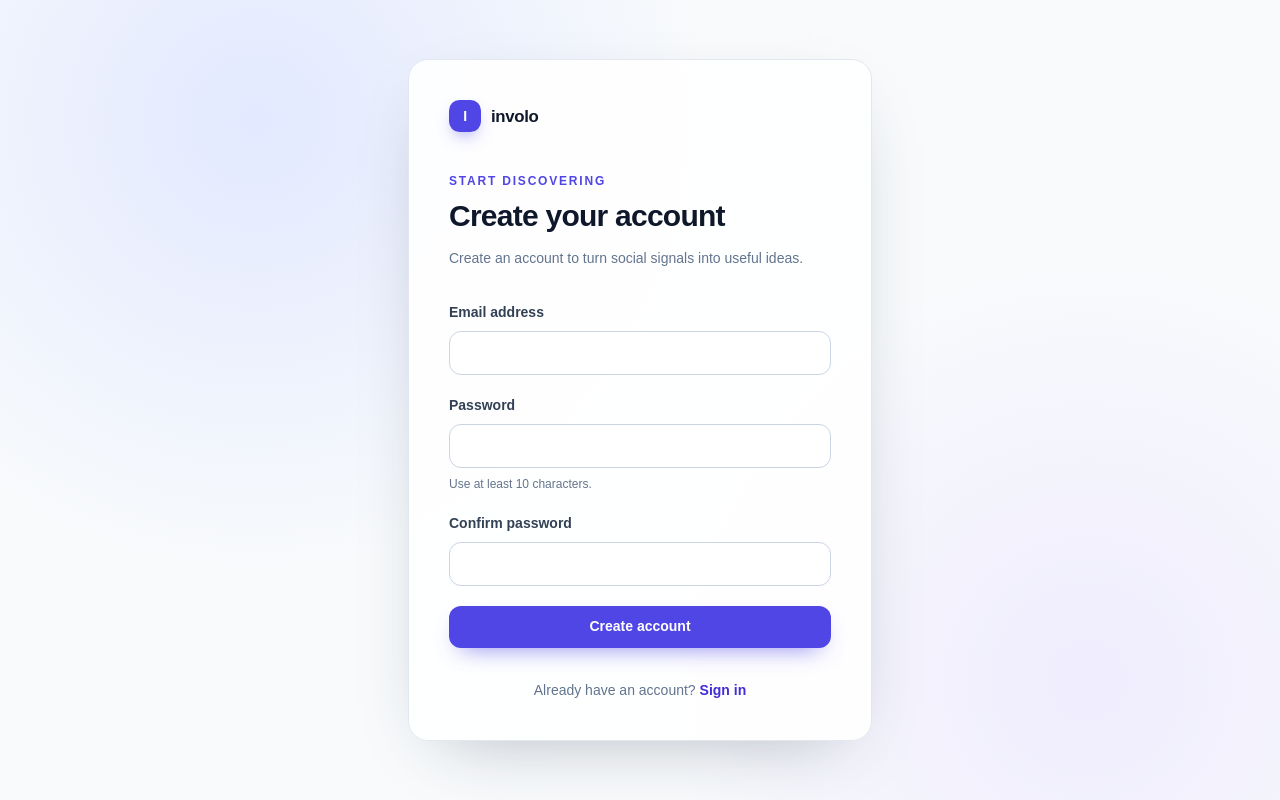
Test case: AuthForm › shows accessible validation errors
The image size is (1280, 800).
Type "invalid" into the field labelled "Email address" at (640, 353), box 449,331 -> 831,375
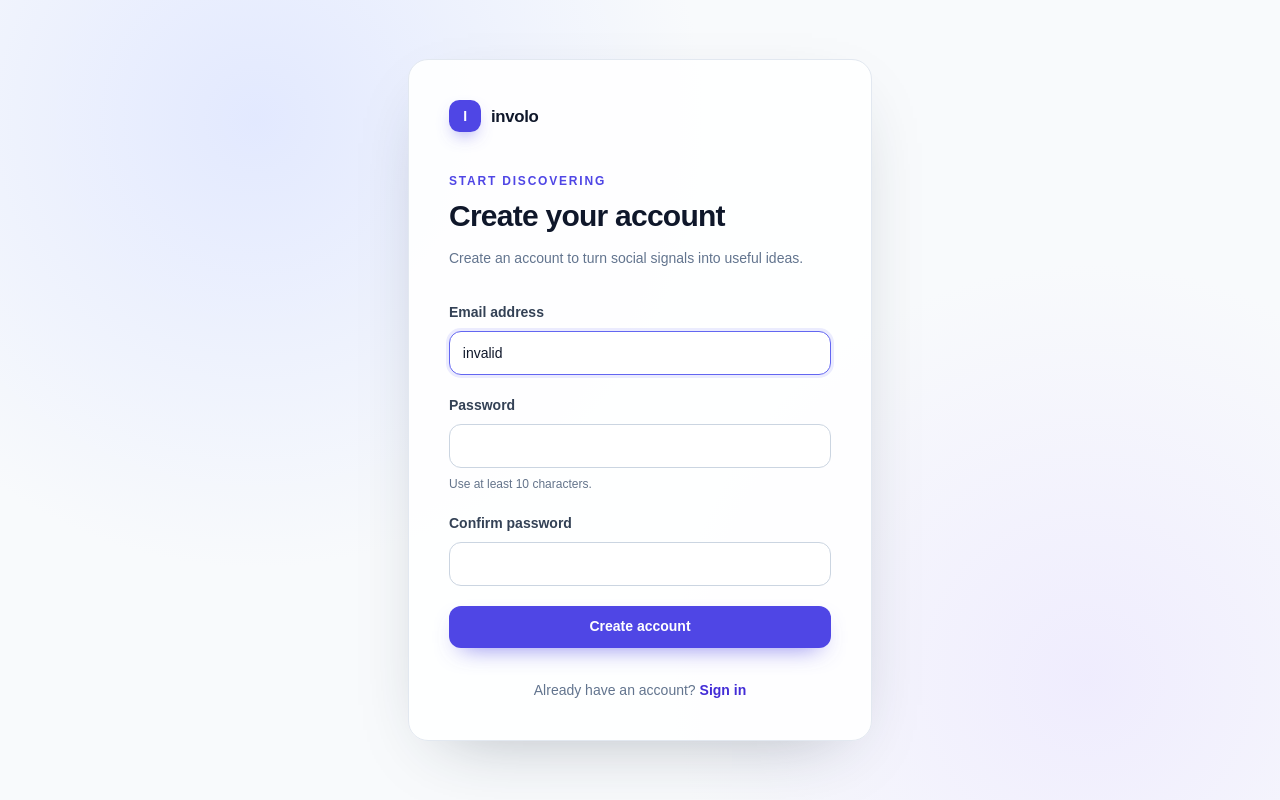
Type "short" into the password field labelled "Password" at (640, 446), box 449,424 -> 831,468
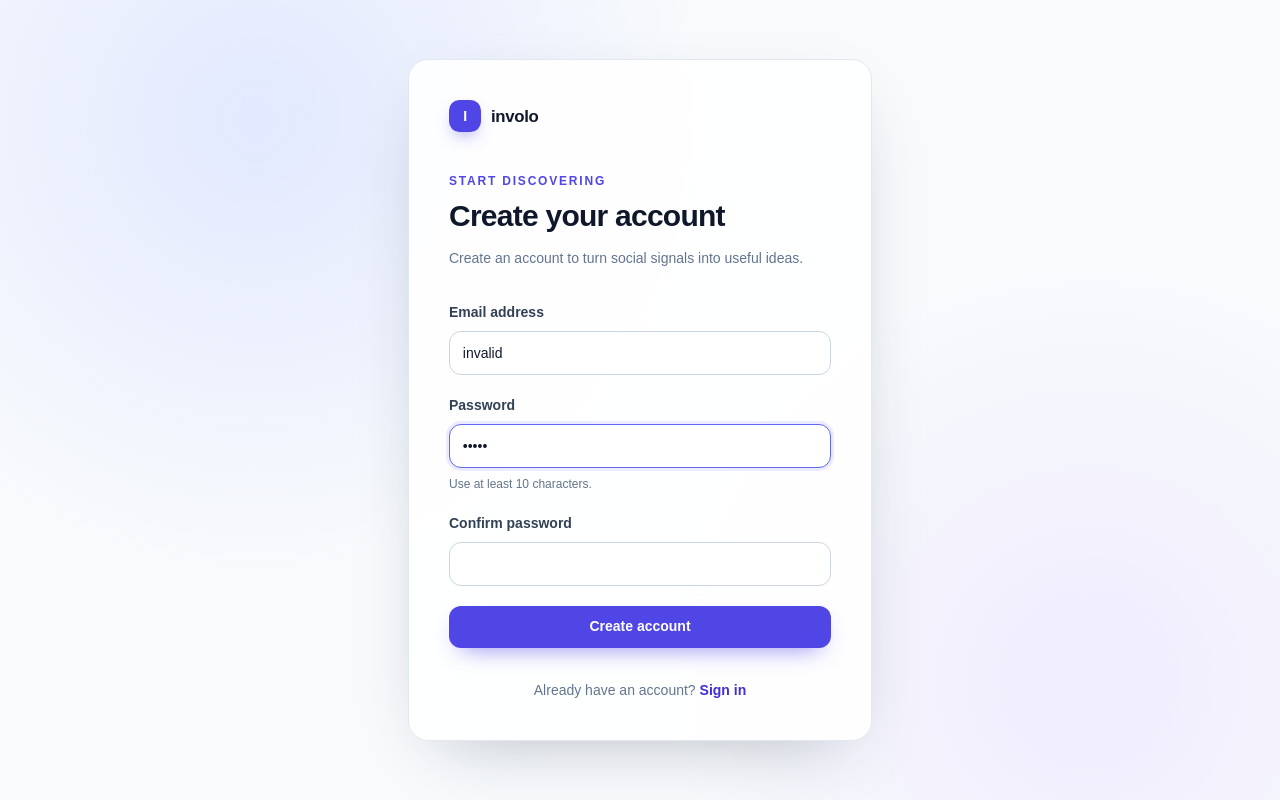
Type "other" into the password field labelled "Confirm password" at (640, 564), box 449,542 -> 831,586
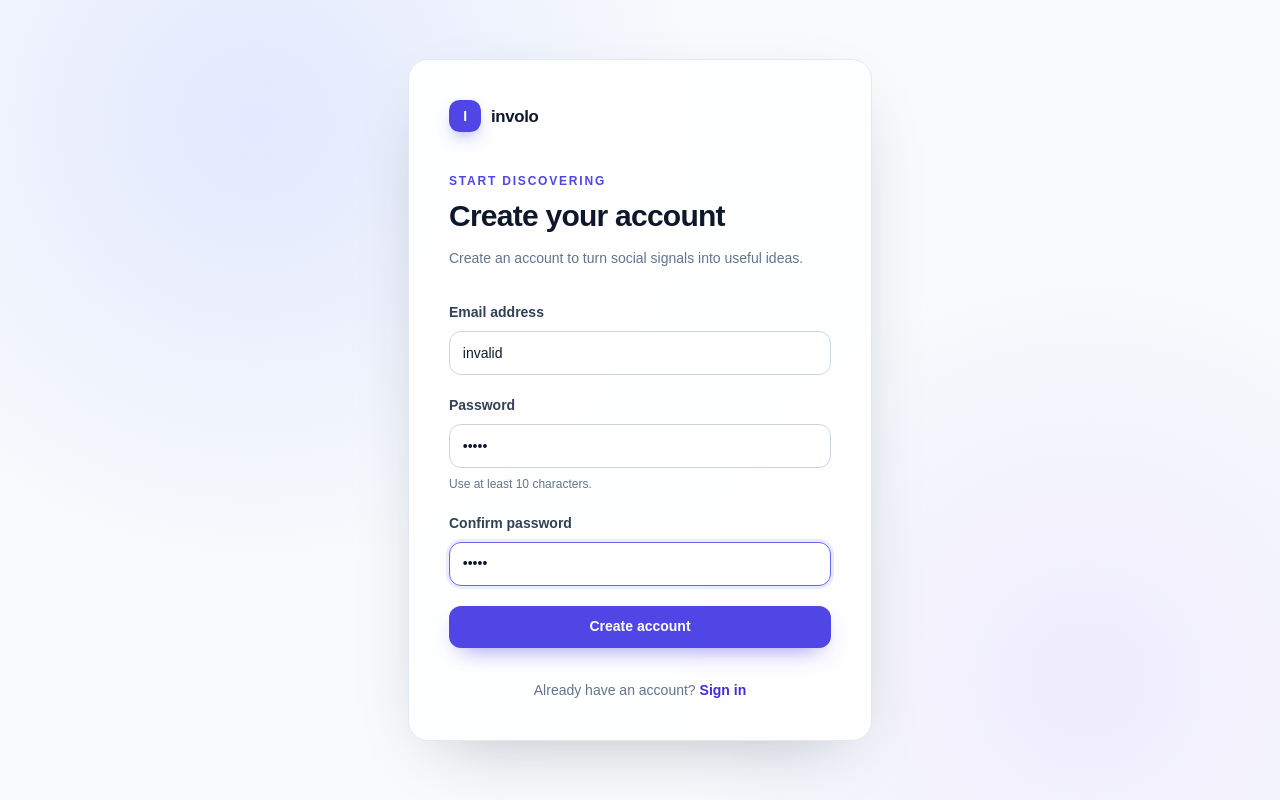
Click the button "Create account" at (640, 627), box 449,606 -> 831,648
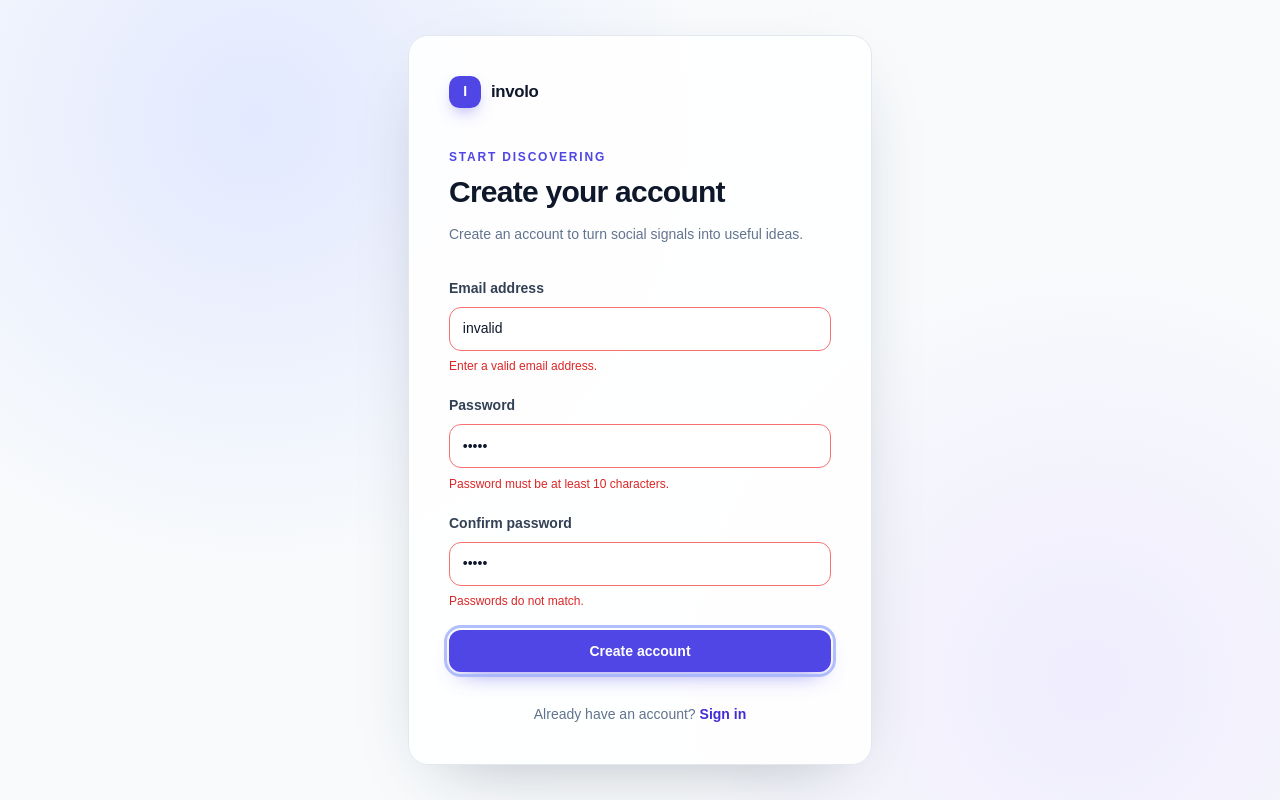
Expected: the text "Enter a valid email address." is shown, 449,359 -> 597,373
Expected: the text "Password must be at least 10 characters." is shown, 449,477 -> 669,491
Expected: the text "Passwords do not match." is shown, 449,594 -> 584,608
